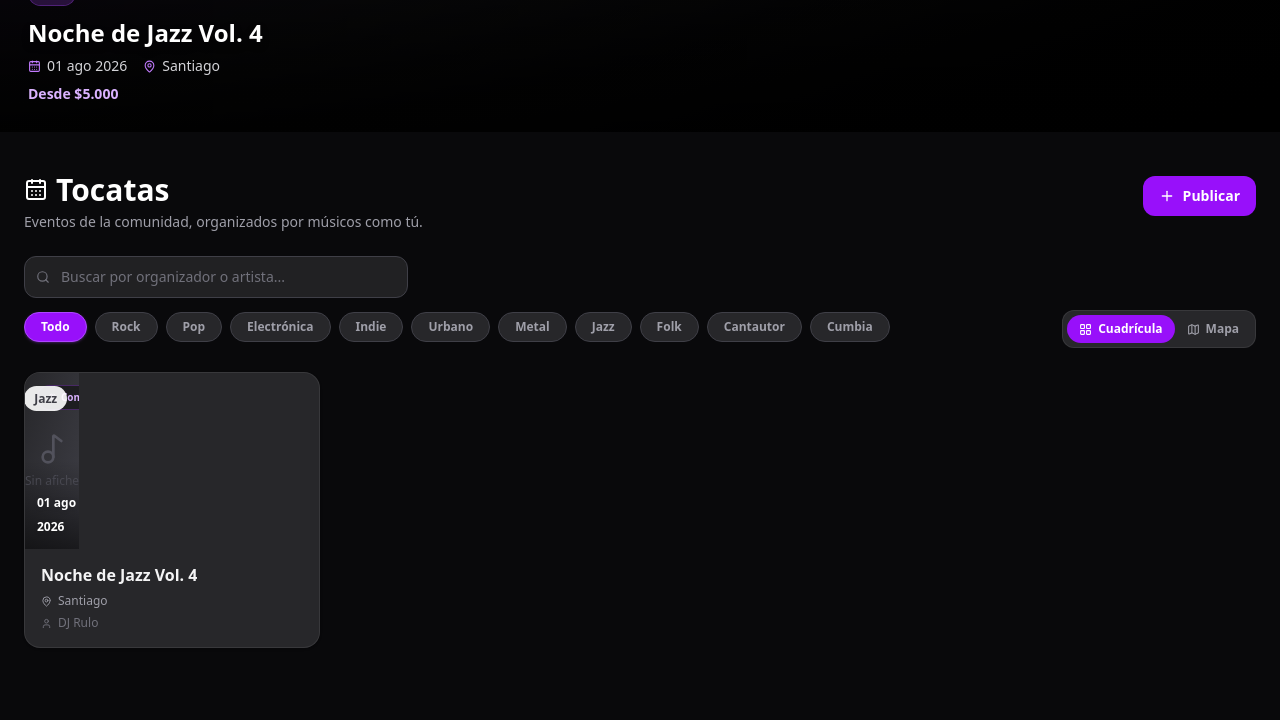
TocatasBoard — compra de entradas y gestión (dinero real) › el organizador puede eliminar su propia tocata (acción destructiva con confirmación)
The width and height of the screenshot is (1280, 720).
(page scrolled)
Step 1. Click the button "Noche de Jazz Vol. 4" → (52, 461), box [24,372,320,648]
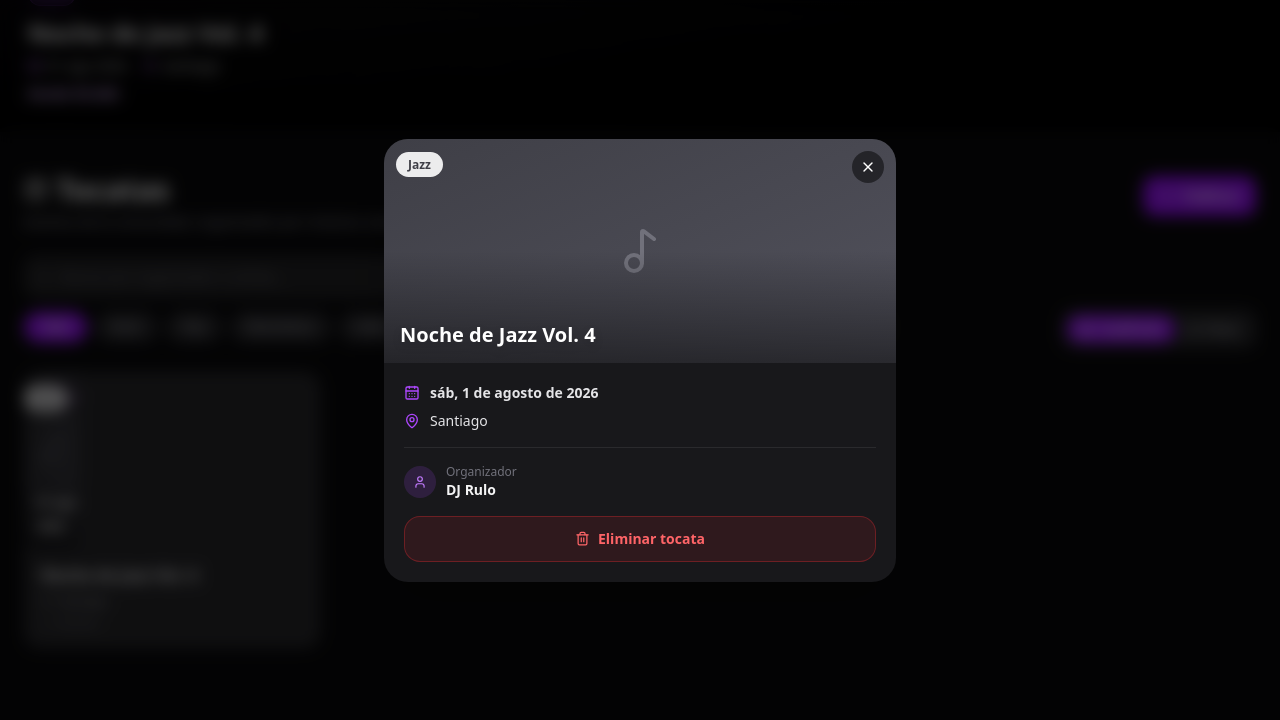
Step 2. Click the button "Eliminar tocata" → (640, 538), box [404,516,876,562]
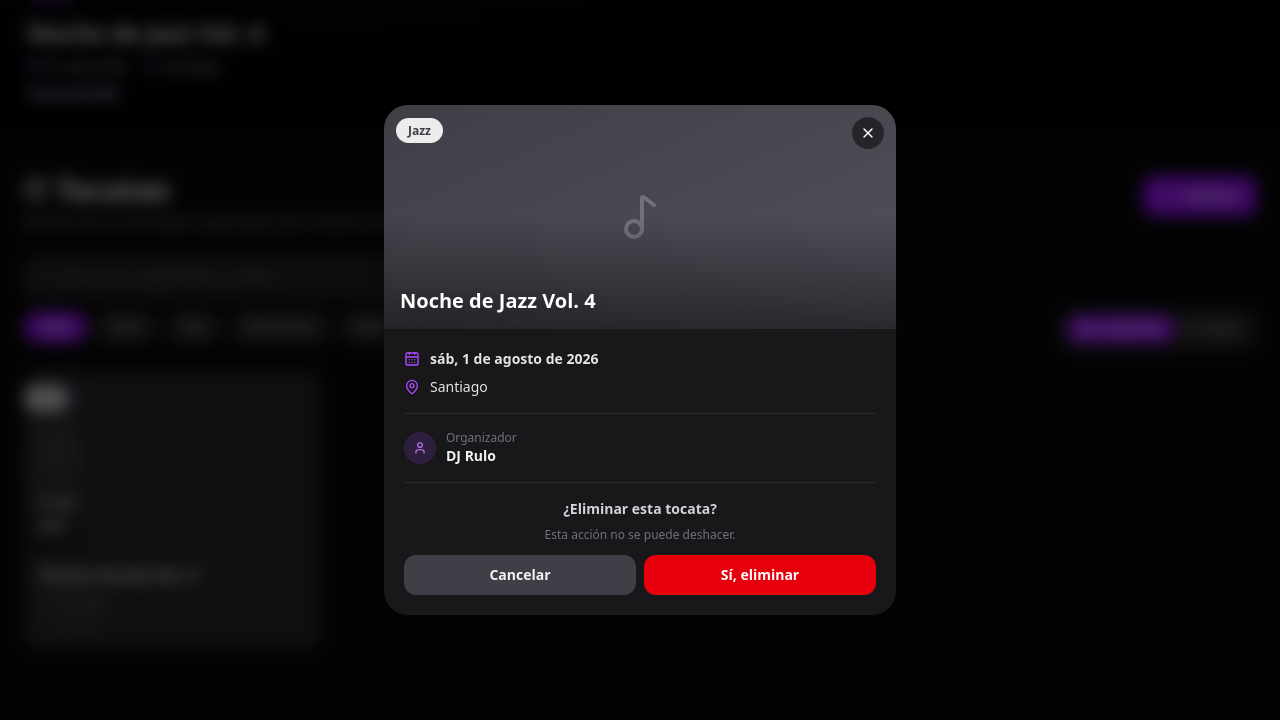
Check: the text "¿Eliminar esta tocata?" is shown, box [563,499,717,518]
Step 3. Click the button "Sí, eliminar" → (760, 575), box [644,555,876,595]
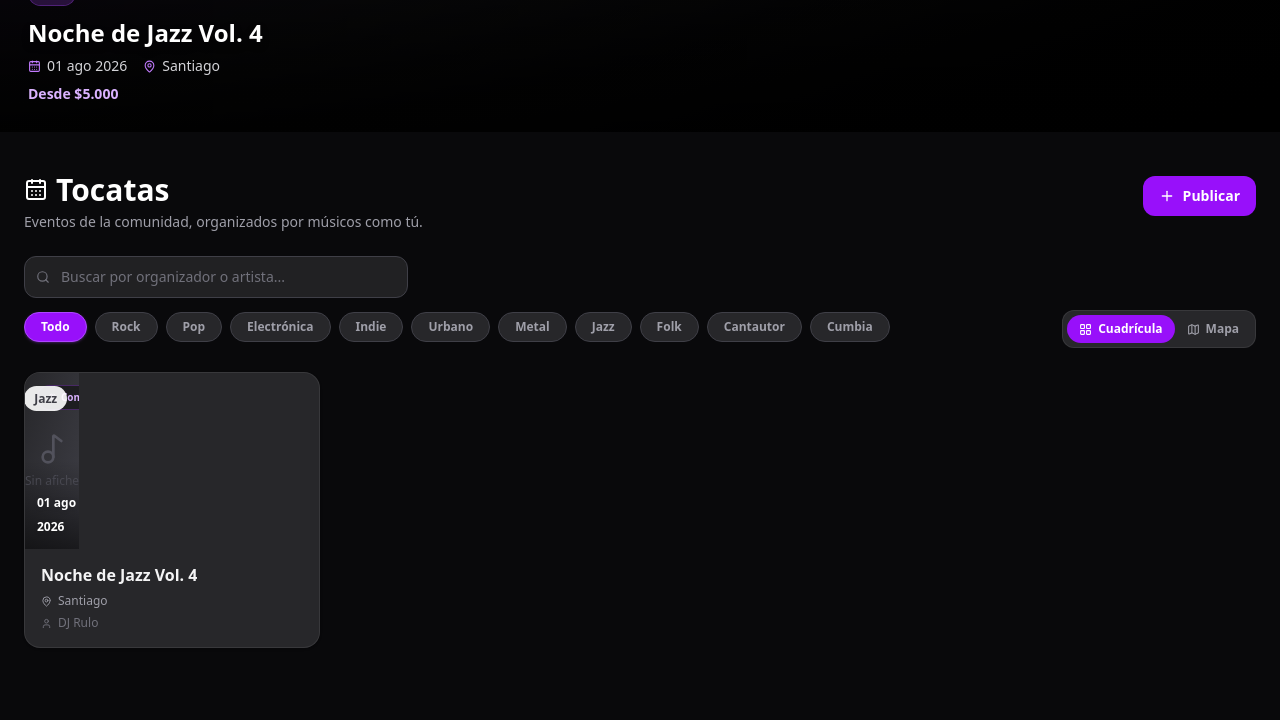
Check: the text "¿Eliminar esta tocata?" is gone
